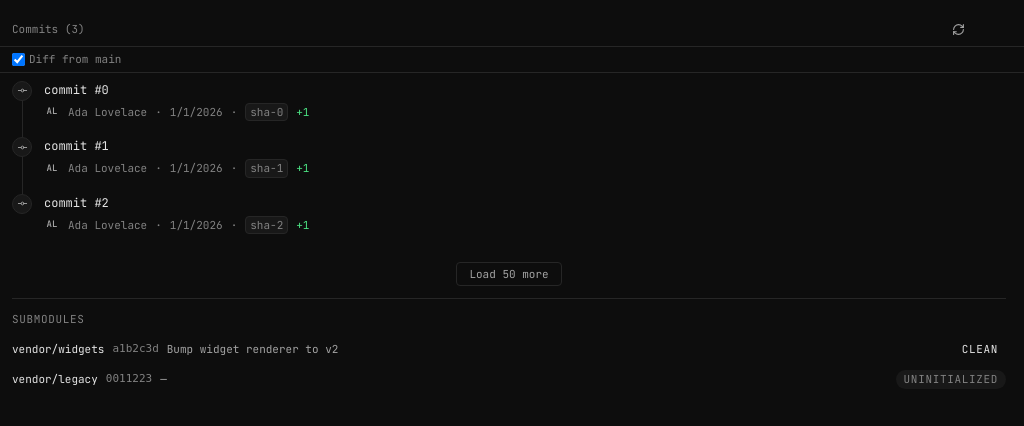
VcsPanel › Regression — a failed Load more (toggle ON) doesn't leave stale armed state that flips the toggle OFF on a later unrelated Refresh
Expected: the text "Commits (3)" is shown, [12,21,85,37]
Expected: the checkbox labelled "Diff from main" is checked, [12,53,25,66]
Click the button "Load 50 more": (509, 274) [456,262,562,286]
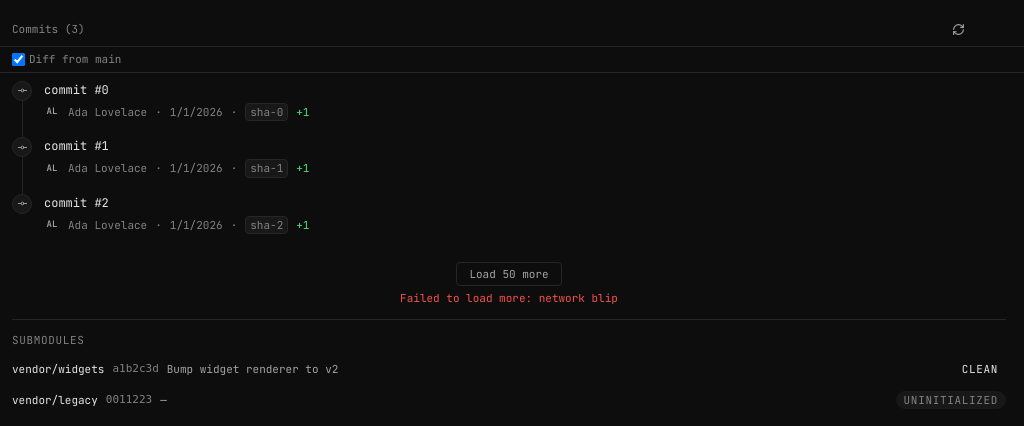
Expected: the checkbox labelled "Diff from main" is checked, [12,53,25,66]
Now the text "Failed to load more: network blip" is shown, box [400,290,618,306]
Click the button named "refresh commits": (958, 29) [944,15,972,43]
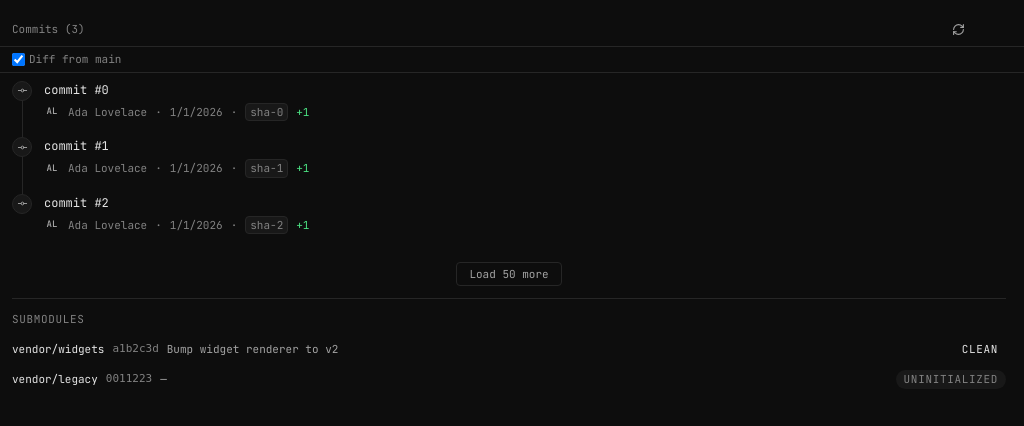
Expected: the text "Commits (3)" is shown, [12,21,85,37]
Now the text "Failed to load more" is gone
